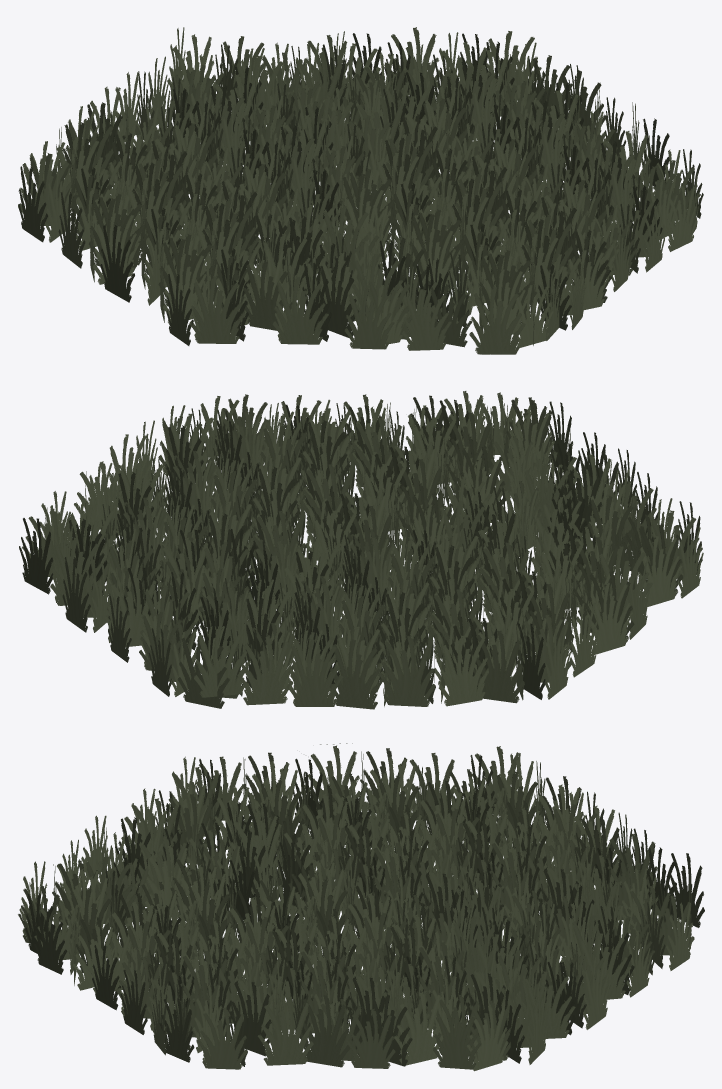
Rendered from GrassGrouped.fbx.
The picture shows the model from 3 angles, top to bottom: view 1: azimuth 30°, elevation 25°; view 2: azimuth 150°, elevation 25°; view 3: azimuth 270°, elevation 25°; orthographic projection.
Parts seen in each view (by area): view 1: Grass Grouped; view 2: Grass Grouped; view 3: Grass Grouped.
Part boxes in pixels (<box>): Grass Grouped: <box>18,27,703,354</box>; Grass Grouped: <box>19,391,703,709</box>; Grass Grouped: <box>18,743,704,1071</box>.
Size of the model in its own units: 175 by 26.19 by 197.
